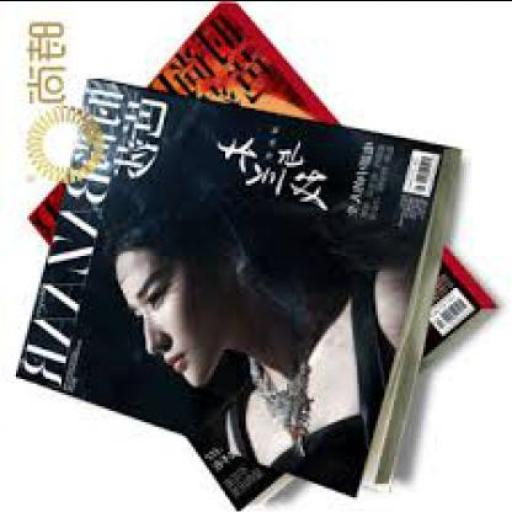paper: (25, 1, 496, 510), (14, 75, 457, 494)
